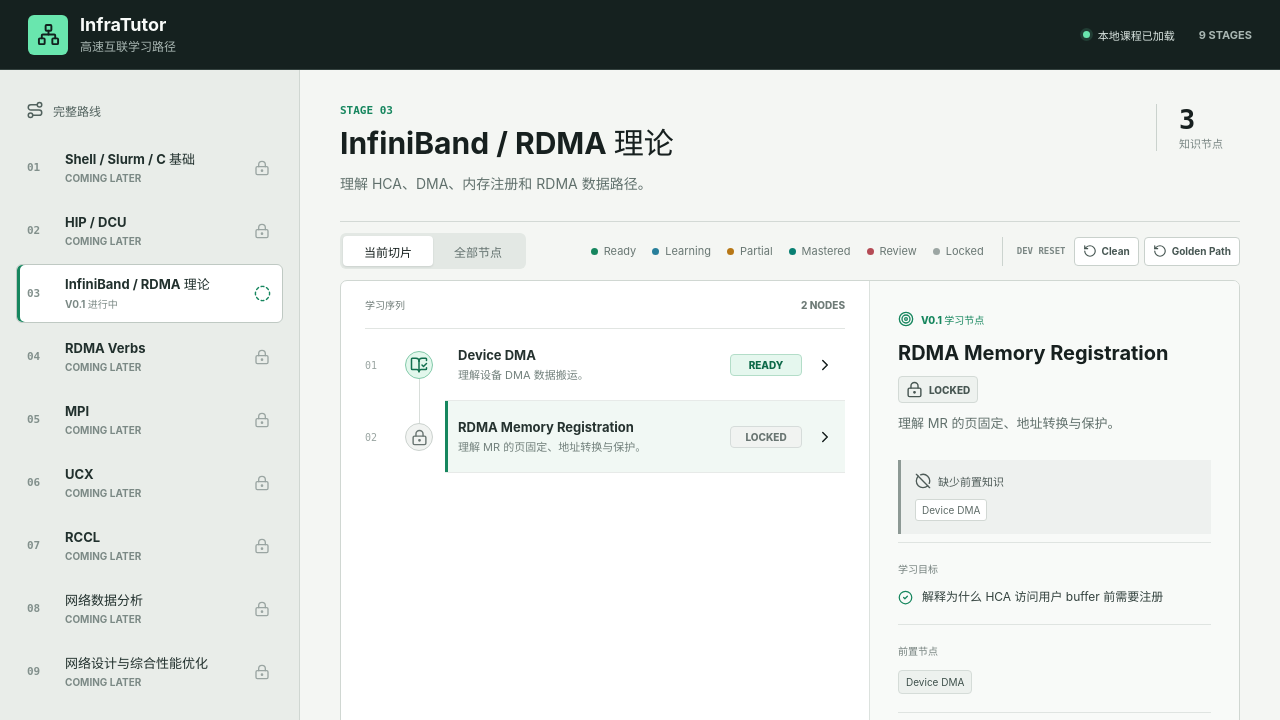
roadmap application › shows all nine stages and exposes only pilot node details
Expected: the heading "InfiniBand / RDMA 理论" is shown, [340,125,674,161]
Expected: the text "Shell / Slurm / C 基础" is shown, [65,151,195,167]
Step 1. Click the button "全部节点" → (478, 251), box [433,236,523,266]
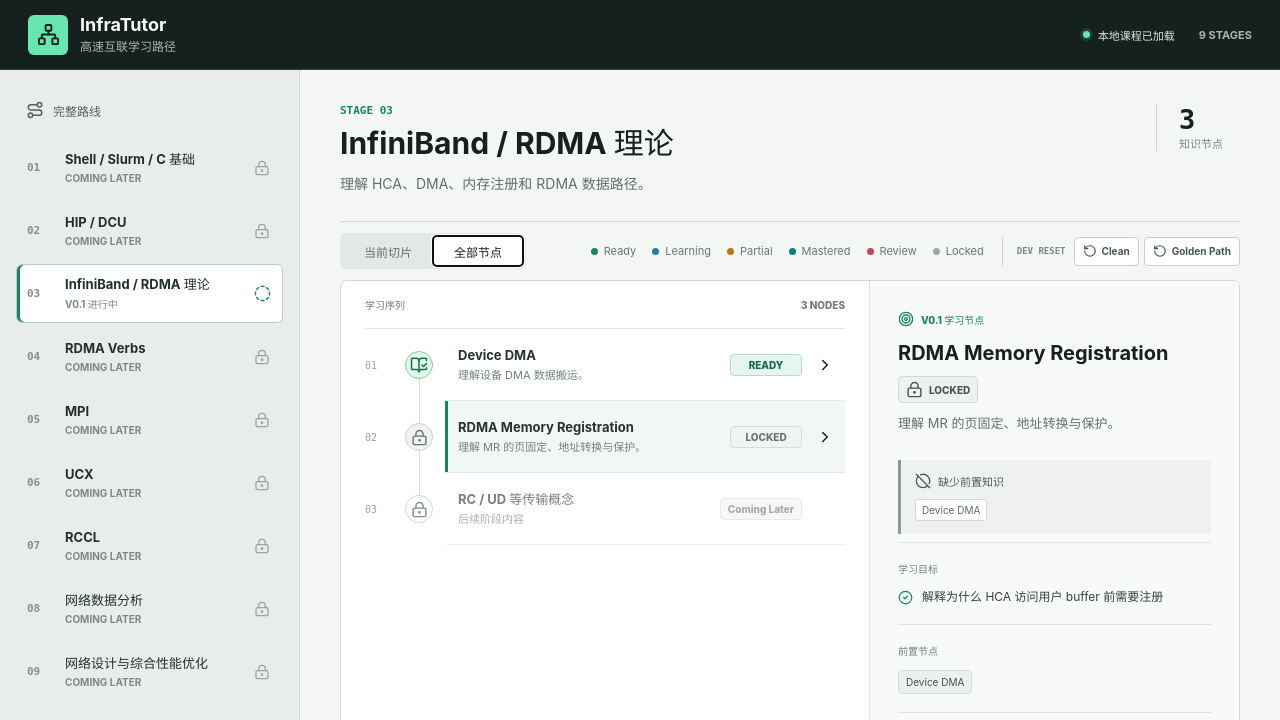
Expected: the 1st text "Coming Later" is shown, [65,172,141,184]
Now the button "RC / UD 等传输概念 后续阶段内容 Coming Later" is disabled, box [445,473,845,545]
